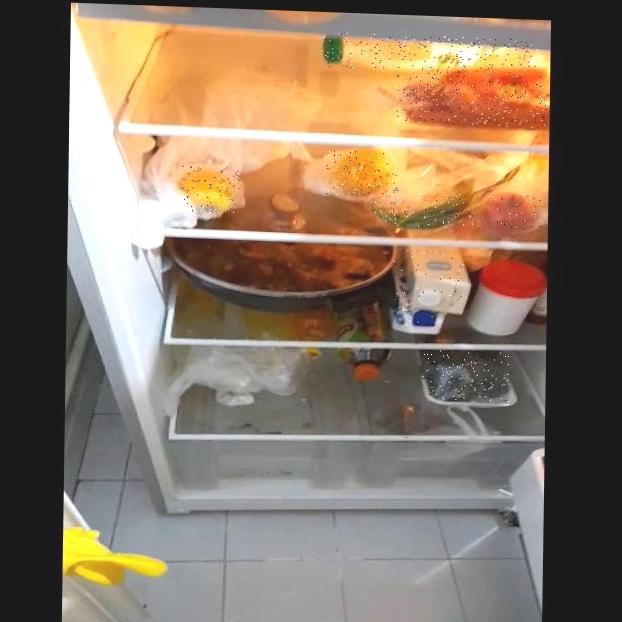broccoli: (422, 350, 510, 402)
carrot: (393, 69, 547, 128)
green chilies: (372, 191, 474, 230)
lemon: (327, 150, 399, 197), (181, 166, 240, 214)
milk: (321, 32, 540, 75), (393, 249, 466, 332)
tomato: (485, 192, 542, 232)
